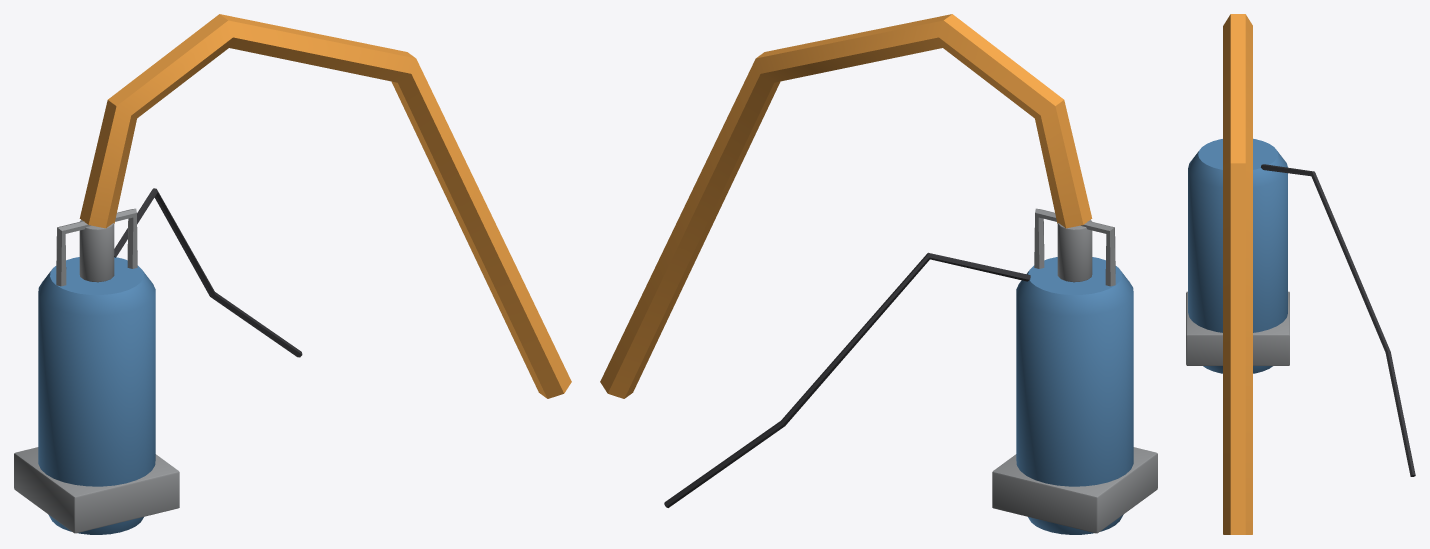
File: EQP-PEQ-008_anim.glb
3 views of the same model, side by side, from view 1: azimuth 30°, elevation 25°; view 2: azimuth 150°, elevation 25°; view 3: azimuth 270°, elevation 25° (orthographic). The views are drawn at different scales.
Parts seen in each view (by area): view 1: EQP-PEQ-008_anim0, EQP-PEQ-008_anim1; view 2: EQP-PEQ-008_anim0, EQP-PEQ-008_anim1; view 3: EQP-PEQ-008_anim1, EQP-PEQ-008_anim0.
Boxes of the visible parts, x1=… form: EQP-PEQ-008_anim0: x1=14, y1=208, x2=179, y2=534; EQP-PEQ-008_anim1: x1=79, y1=14, x2=571, y2=398; EQP-PEQ-008_anim0: x1=992, y1=208, x2=1157, y2=534; EQP-PEQ-008_anim1: x1=600, y1=14, x2=1092, y2=507; EQP-PEQ-008_anim1: x1=1223, y1=14, x2=1415, y2=534; EQP-PEQ-008_anim0: x1=1186, y1=138, x2=1289, y2=373.
Bounding box in the file's own units: 1.03 × 0.876 × 0.4594.
